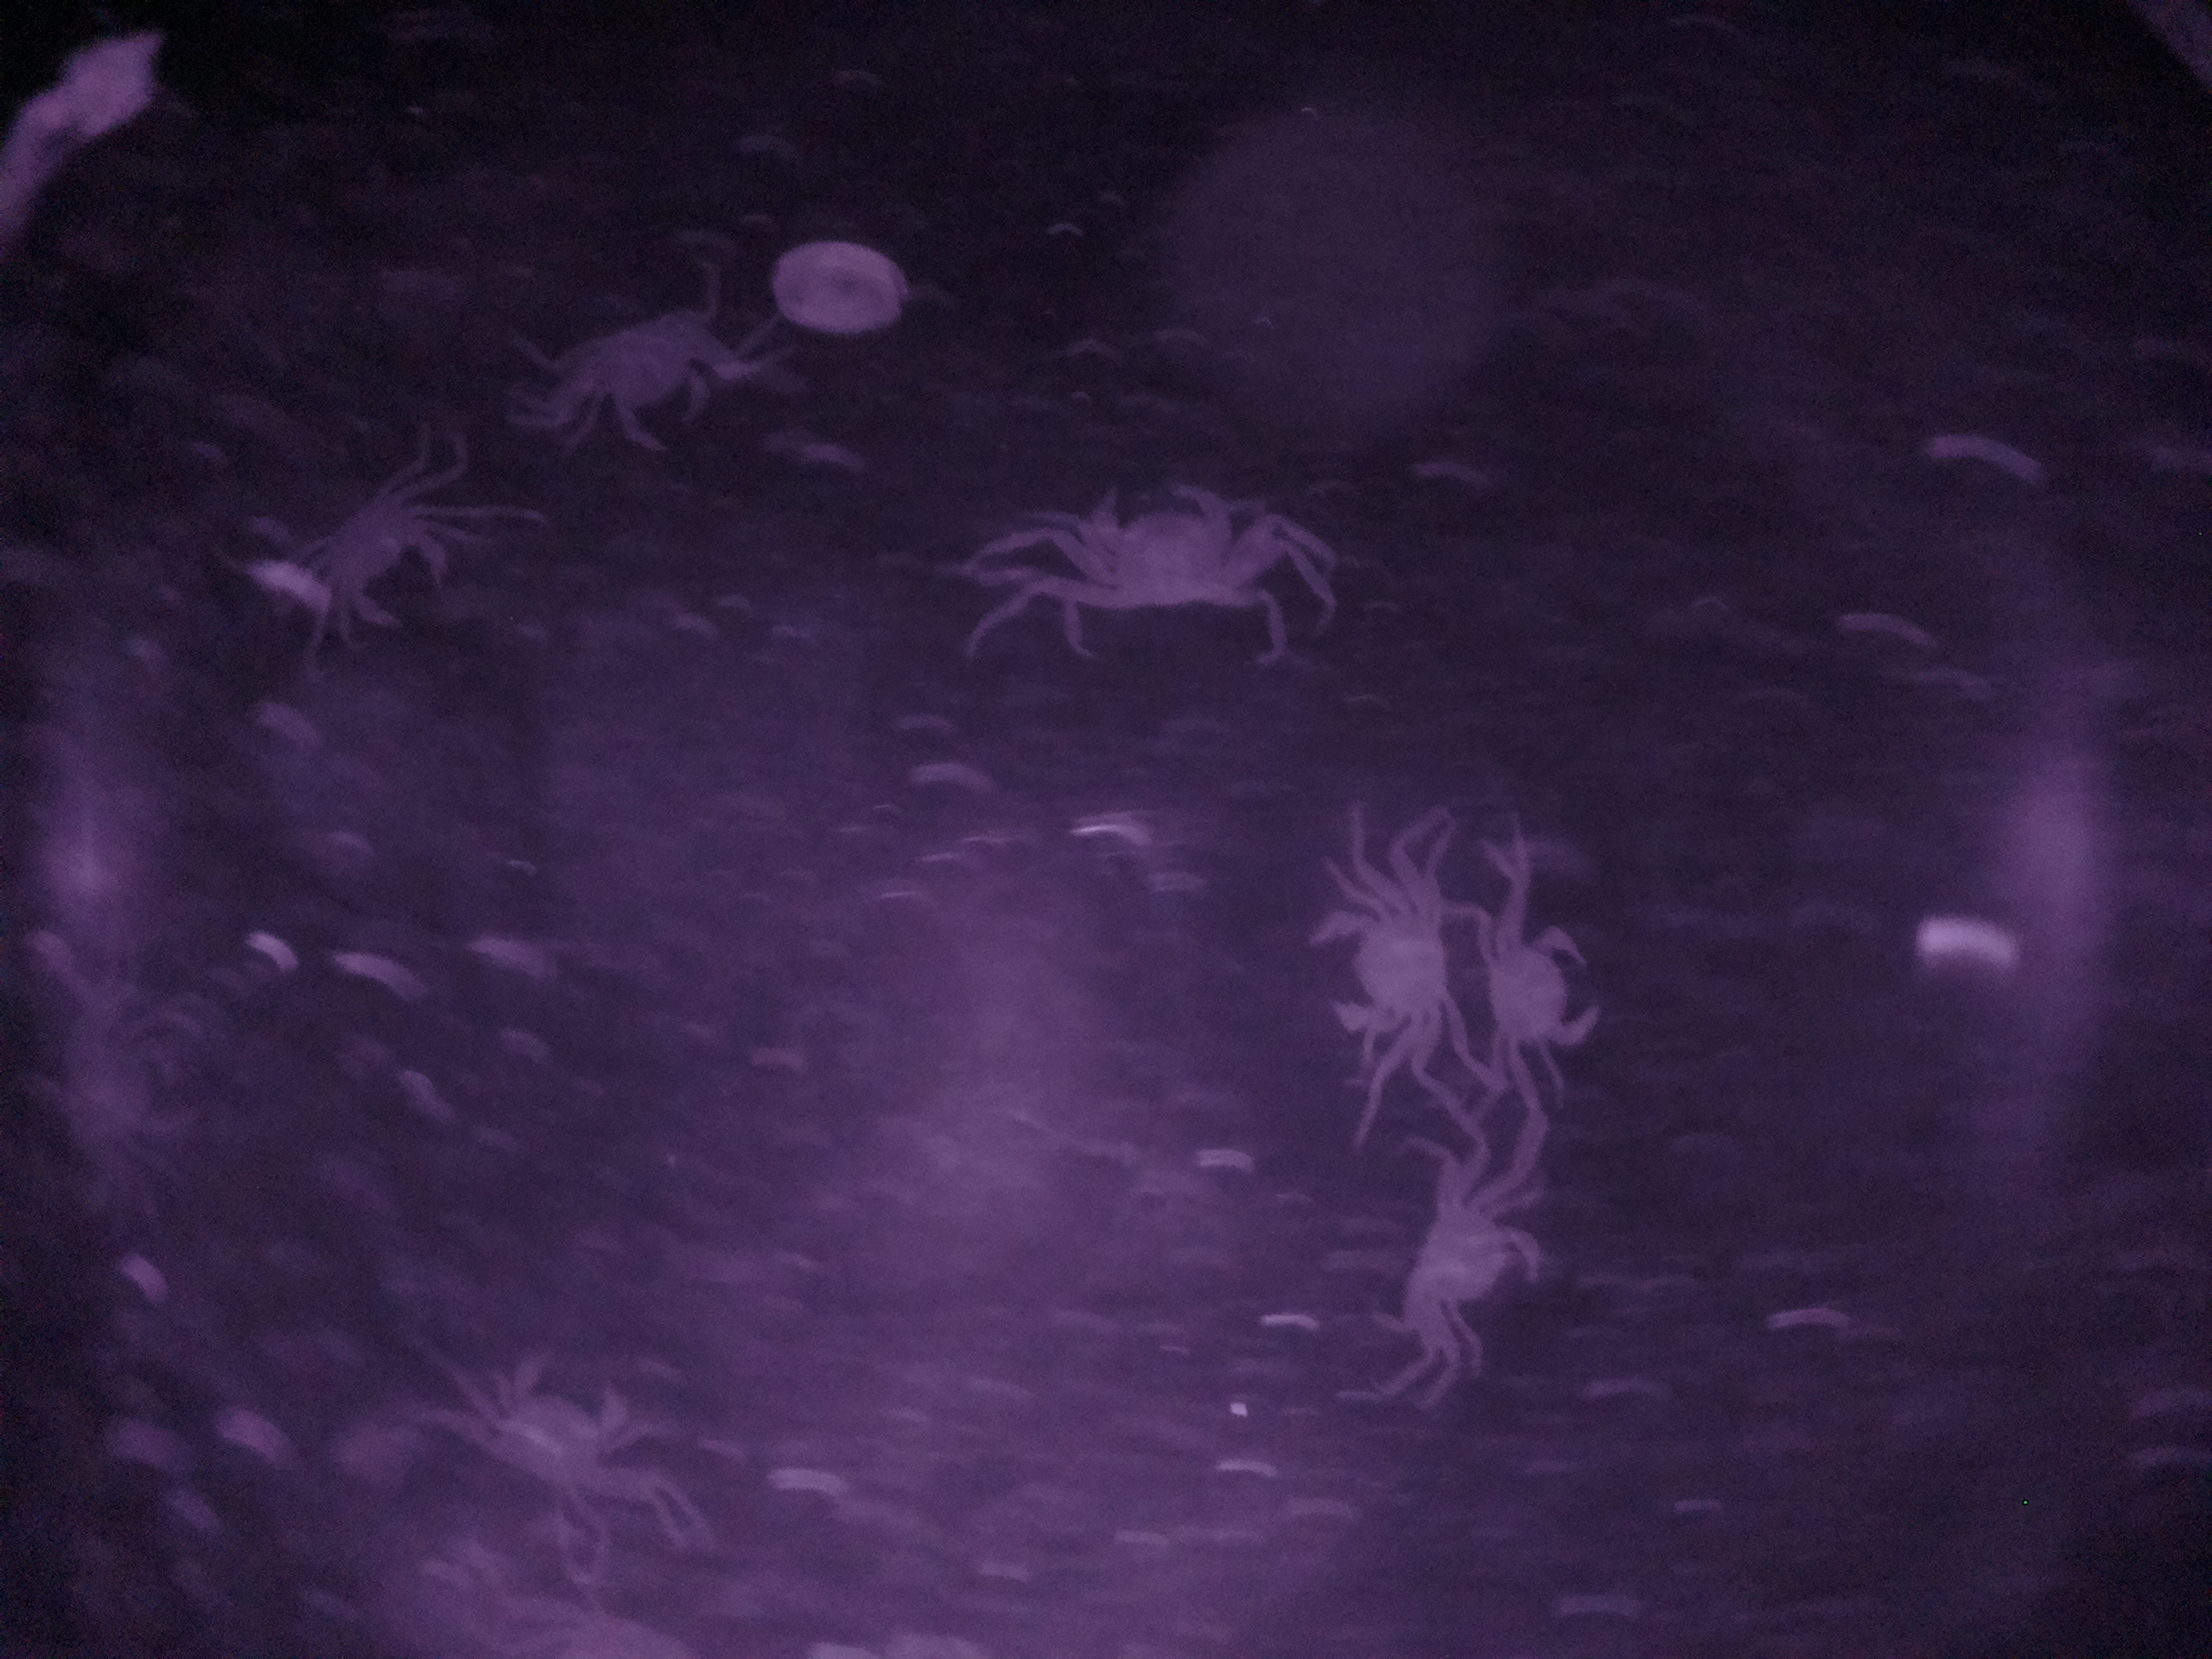Crab: (1031, 467, 1259, 647), (1294, 842, 1456, 1065), (1393, 1150, 1552, 1370), (1475, 880, 1620, 1079)
